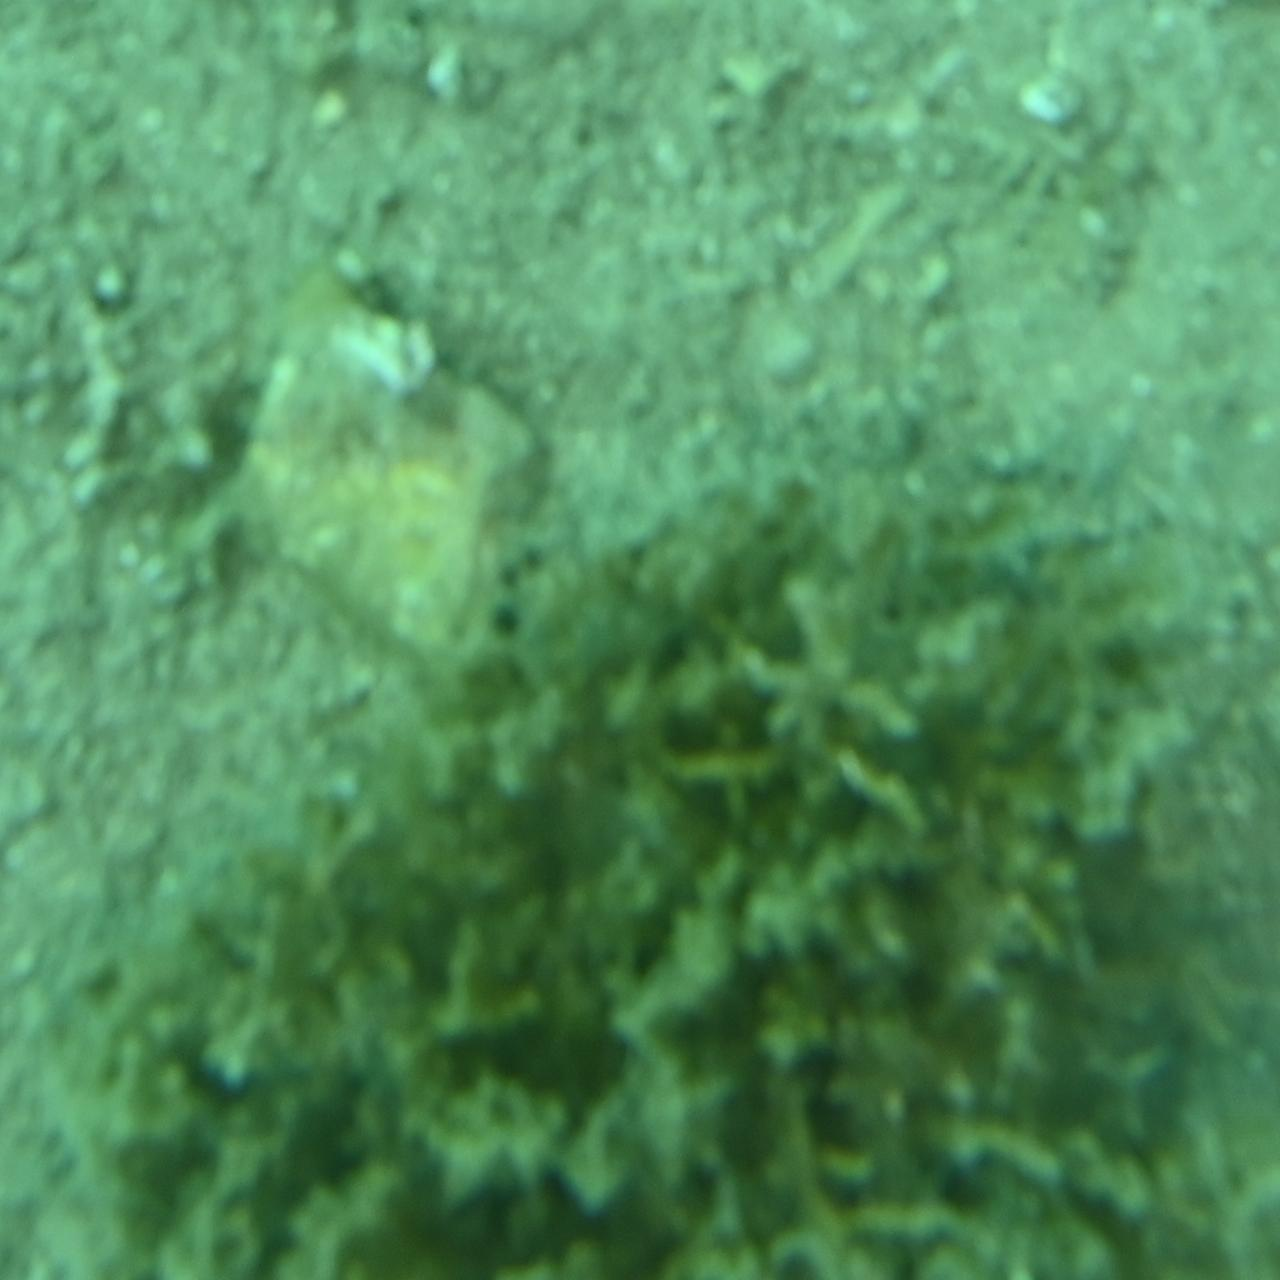Phaeophyceae -cfr Cystoseira-: (82, 470, 1198, 1278)
